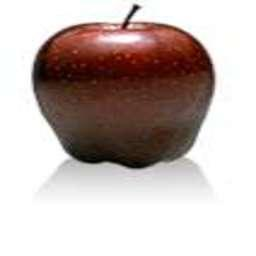apple: (31, 12, 218, 169)
